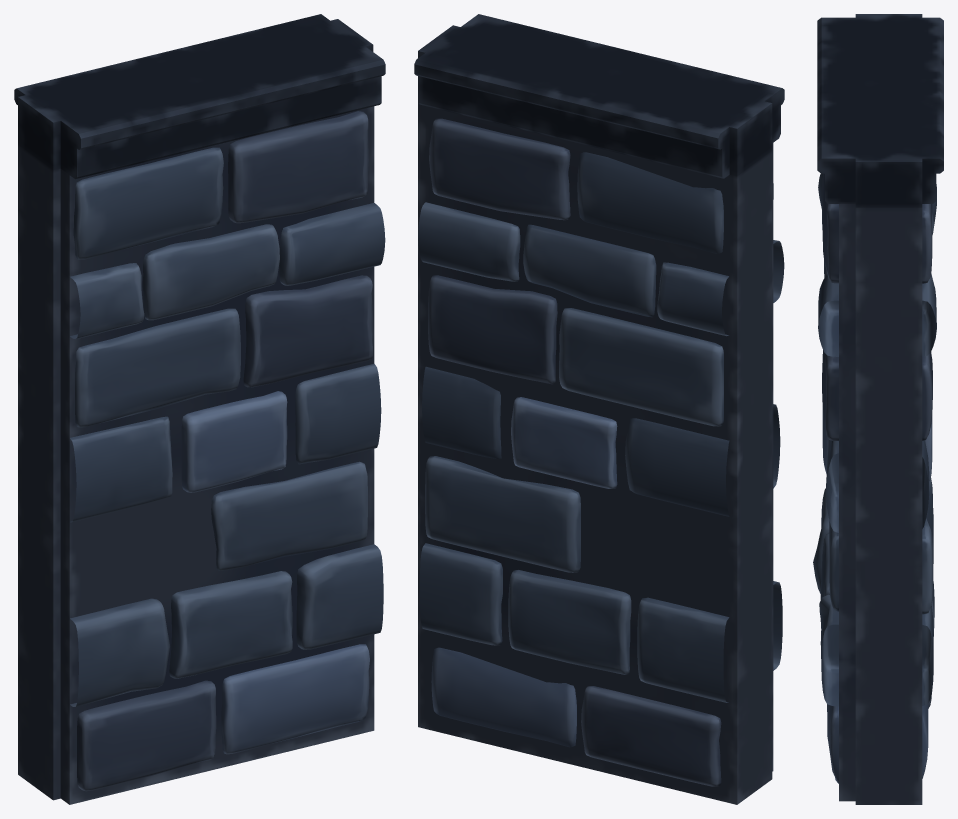
The model's file is Wall1-2.fbx.
The picture shows the model from 3 angles, left to right: view 1: azimuth 30°, elevation 25°; view 2: azimuth 150°, elevation 25°; view 3: azimuth 270°, elevation 25°; orthographic projection. The views are drawn at different scales.
Parts seen in each view (by area): view 1: WallTileB3; view 2: WallTileB3; view 3: WallTileB3.
Boxes of the visible parts, <box> form: WallTileB3: <box>14,14,385,804</box>; WallTileB3: <box>414,14,784,804</box>; WallTileB3: <box>813,14,943,804</box>.
Size of the model in its own units: 2.1 by 4.25 by 0.784.
